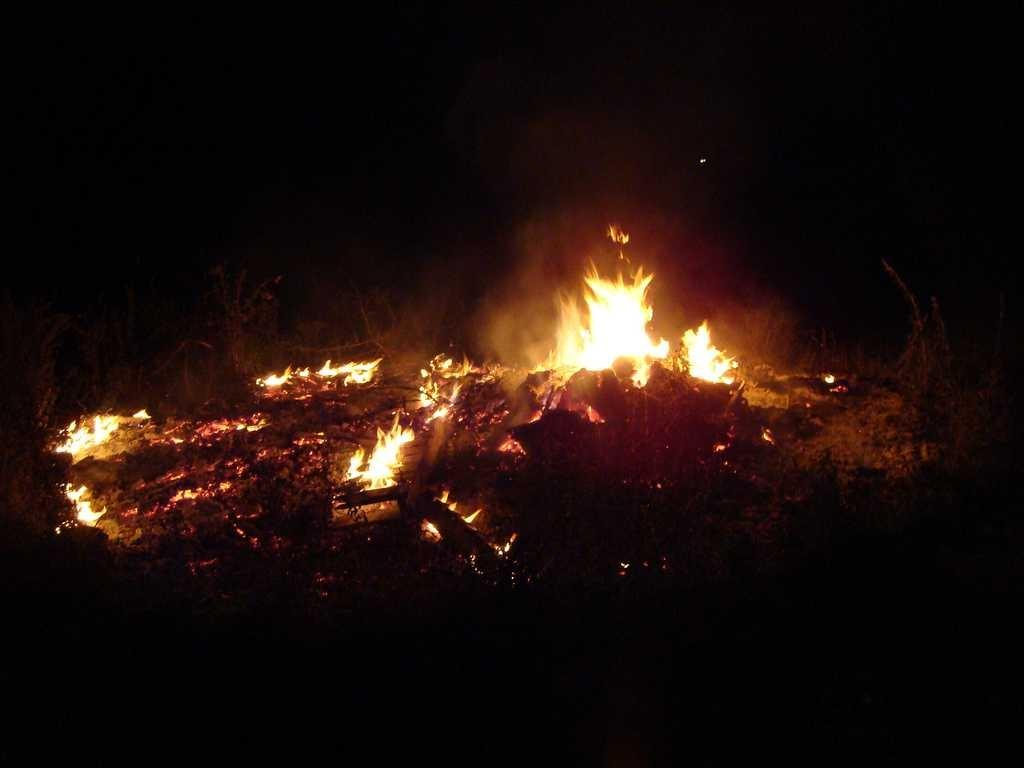fire: (580, 282, 650, 362), (372, 426, 414, 478), (72, 414, 118, 450), (694, 328, 718, 384)
